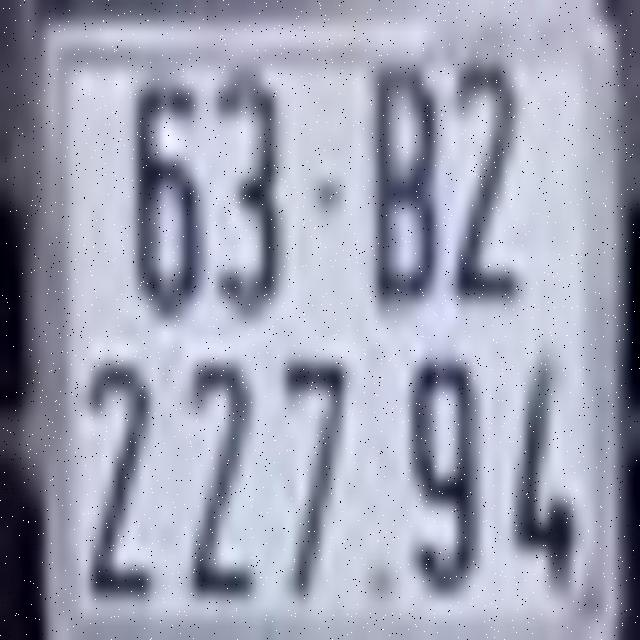2: (449, 62, 531, 312), (77, 361, 155, 599), (182, 357, 253, 596)
3: (207, 66, 289, 318)
4: (514, 356, 581, 605)
6: (133, 82, 203, 318)
7: (279, 359, 349, 604)
9: (404, 360, 484, 604)
B: (368, 64, 438, 309)
